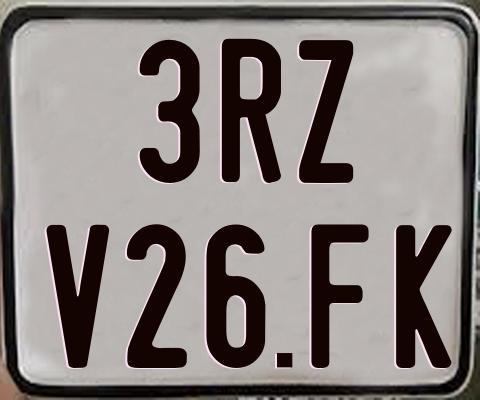2: (126, 223, 187, 373)
3: (137, 37, 199, 180)
6: (203, 221, 267, 368)
F: (309, 221, 368, 369)
K: (393, 224, 455, 371)
R: (219, 38, 278, 184)
V: (43, 224, 111, 367)
Z: (296, 37, 354, 180)
